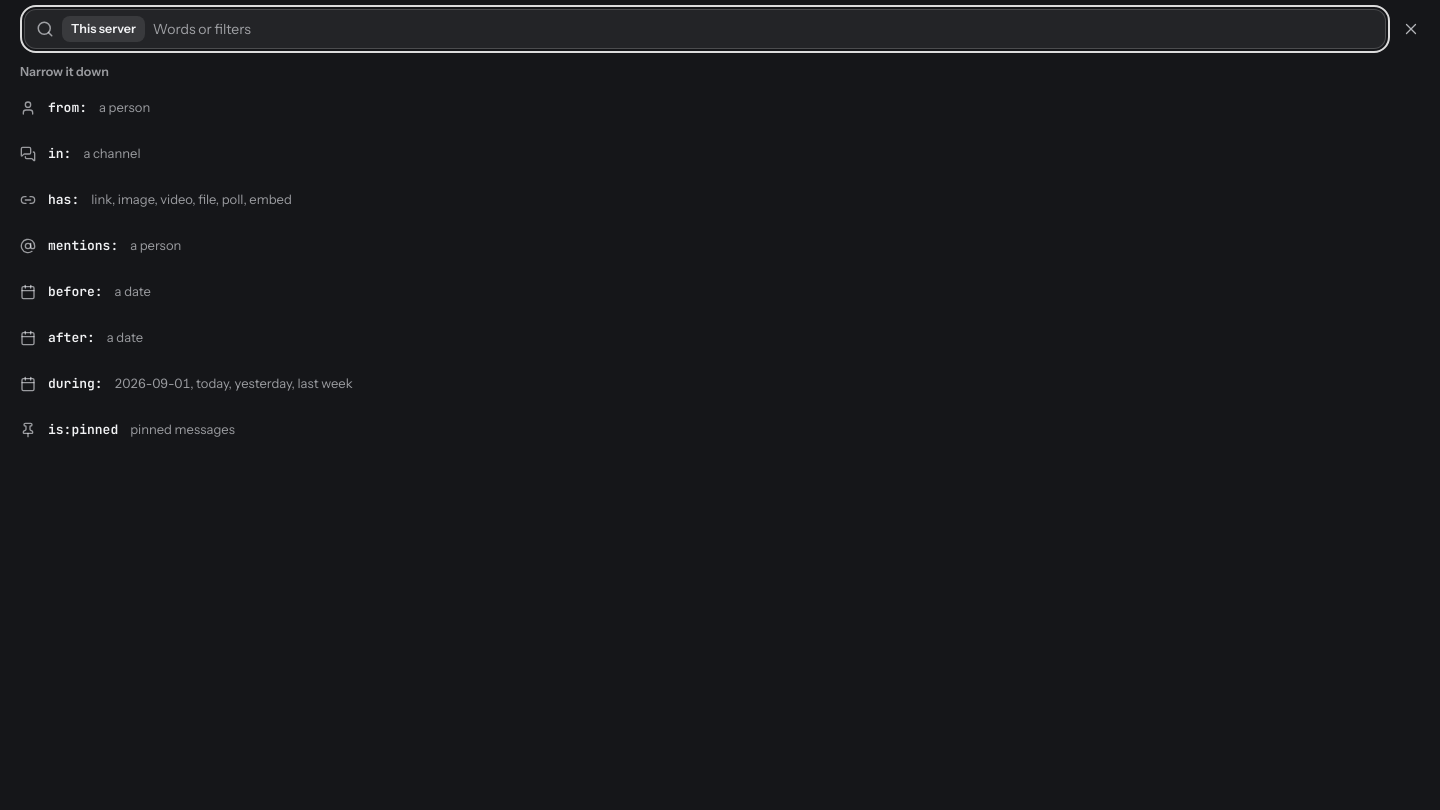
Scenario: SearchOverlay › groups results from more than one channel
In the dropdown named "Search messages": (763, 29) [153, 20, 1374, 38], type "postgres"
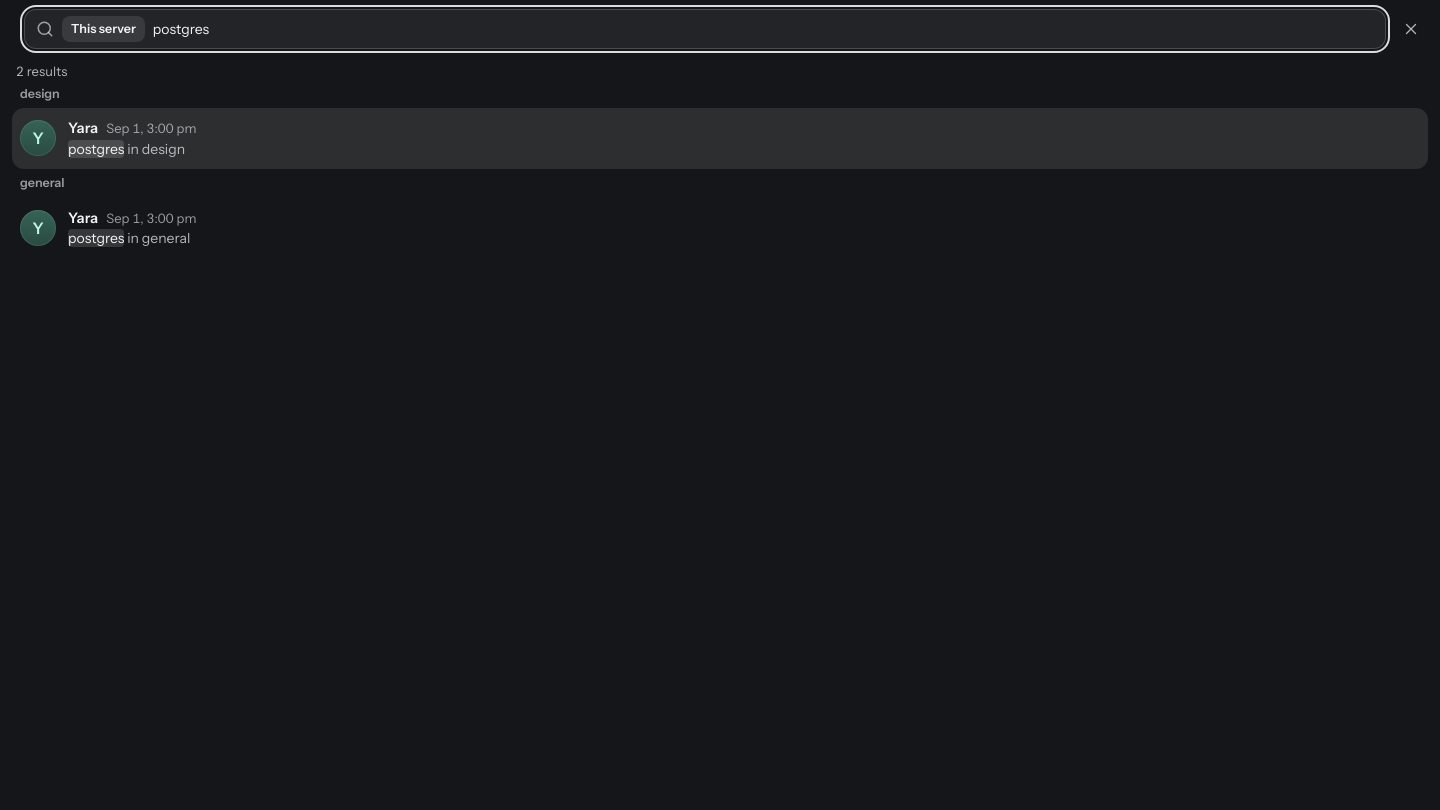
Check: the heading "design" is shown, box [20, 86, 60, 101]
Check: the heading "general" is shown, box [20, 176, 65, 190]
Check: the text "2 results" is shown, box [16, 62, 68, 80]
